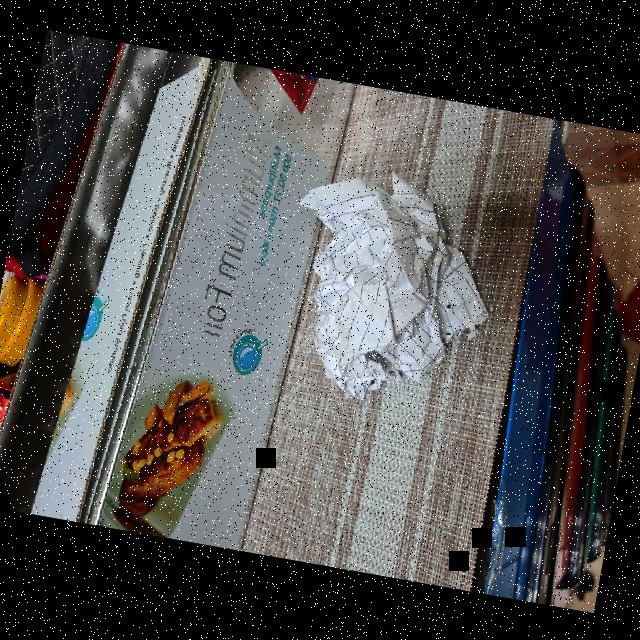scrap_paper: (292, 160, 505, 410)
